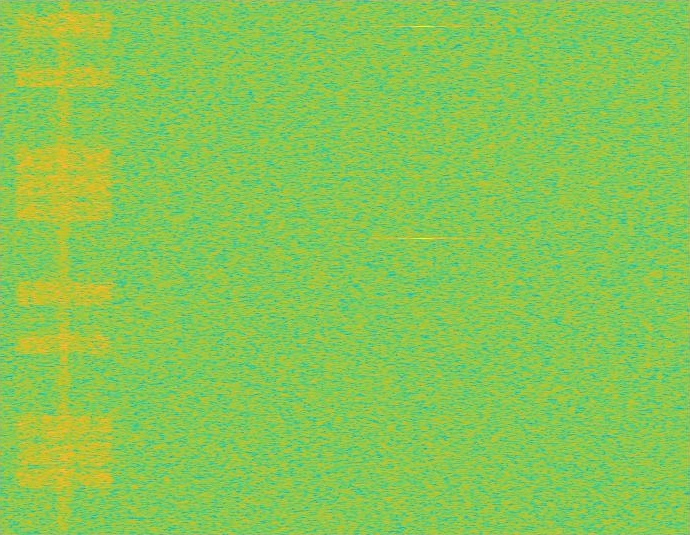DSSS: (57, 0, 71, 534)
LTE: (12, 0, 116, 534)
Radar: (416, 0, 429, 534)
